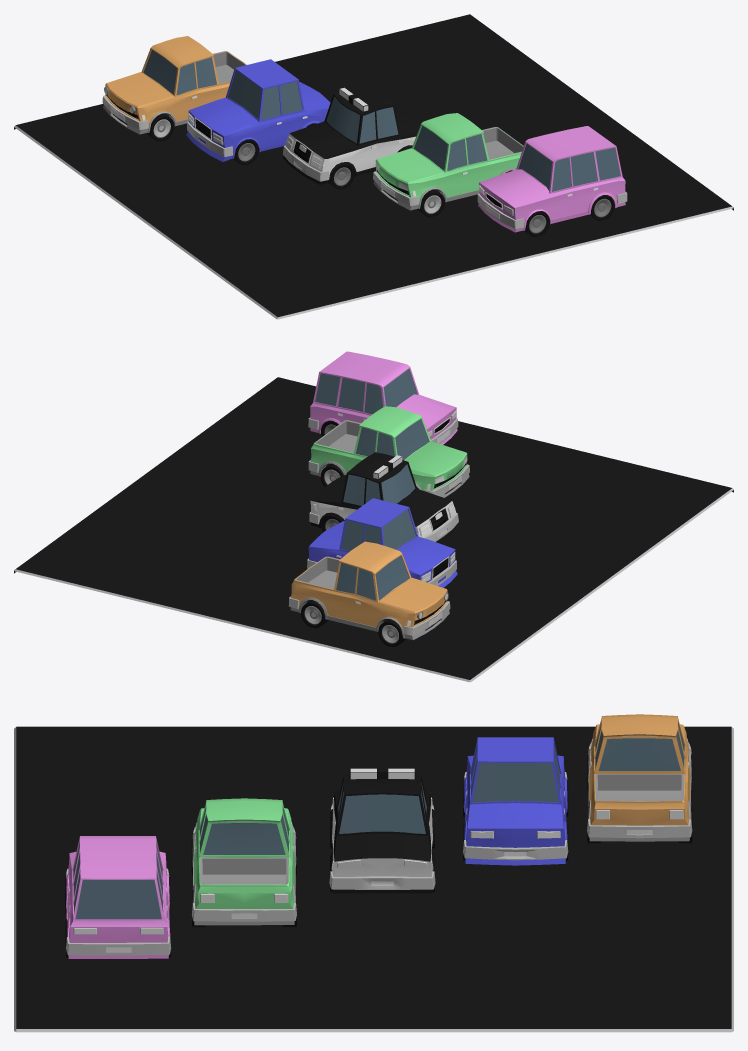
The model's file is MixedLowPolyCars.fbx.
3 views of the same model, one above another, from view 1: azimuth 30°, elevation 25°; view 2: azimuth 150°, elevation 25°; view 3: azimuth 270°, elevation 25° (orthographic). The views are drawn at different scales.
Visible parts, largest first — view 1: Plane, CarStationWagon.Low.001, CarStationPickupLow.001, CarSedan.Low.001, CarSedanPoliceLow.001, CarPickupLow.001; view 2: Plane, CarPickupLow.001, CarStationPickupLow.001, CarStationWagon.Low.001, CarSedanPoliceLow.001, CarSedan.Low.001; view 3: Plane, CarPickupLow.001, CarSedan.Low.001, CarStationPickupLow.001, CarSedanPoliceLow.001, CarStationWagon.Low.001.
Part boxes in pixels (x1,y1,x2,y2): Plane: [14, 14, 733, 319]; CarStationWagon.Low.001: [477, 126, 627, 236]; CarStationPickupLow.001: [373, 113, 523, 217]; CarSedan.Low.001: [186, 59, 330, 164]; CarSedanPoliceLow.001: [283, 84, 420, 189]; CarPickupLow.001: [102, 36, 246, 141]; Plane: [14, 377, 733, 682]; CarPickupLow.001: [288, 541, 450, 646]; CarStationPickupLow.001: [308, 406, 469, 497]; CarStationWagon.Low.001: [308, 351, 458, 444]; CarSedanPoliceLow.001: [309, 452, 458, 542]; CarSedan.Low.001: [307, 498, 457, 587]; Plane: [14, 726, 733, 1032]; CarPickupLow.001: [587, 714, 692, 843]; CarSedan.Low.001: [463, 737, 568, 865]; CarStationPickupLow.001: [191, 798, 296, 927]; CarSedanPoliceLow.001: [329, 767, 435, 893]; CarStationWagon.Low.001: [65, 836, 171, 958].
Size of the model in its own units: 1451 by 231 by 1451.
Materials: 23 (1 with a texture image).
